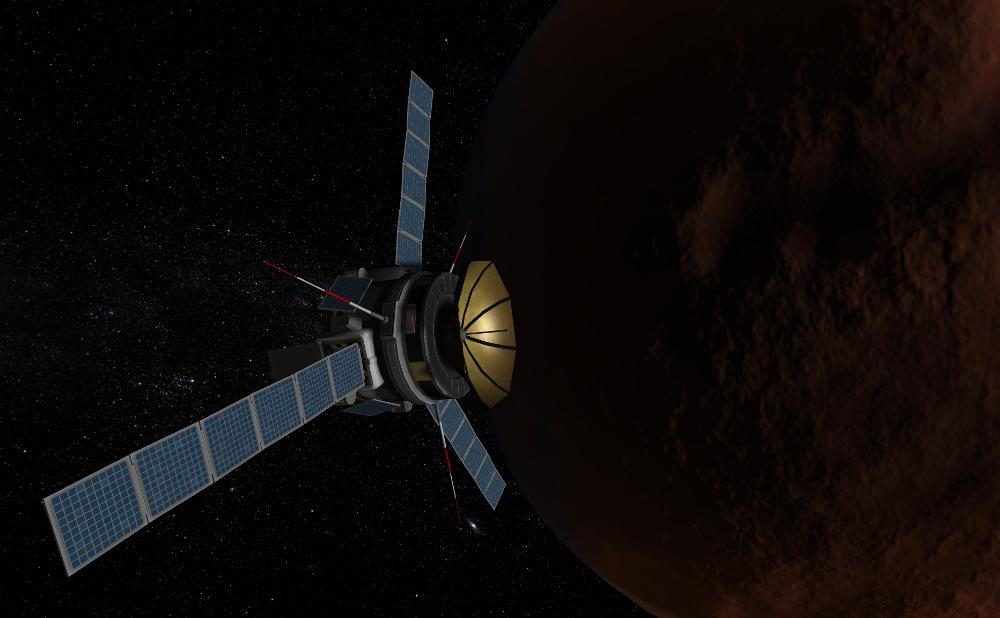antenna: (447, 258, 520, 412), (261, 258, 388, 322), (433, 403, 464, 526), (447, 218, 476, 274)
body: (311, 264, 473, 416)
solar: (40, 341, 367, 581), (425, 396, 509, 512), (393, 67, 436, 275), (315, 274, 375, 314), (341, 396, 403, 418)
